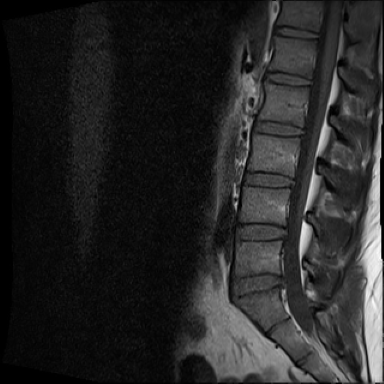Lumbar Disc Bulge (LDB): (222, 265, 292, 306)
Normal IVD: (233, 217, 287, 241), (263, 67, 314, 90), (250, 118, 304, 139), (241, 169, 294, 189), (274, 23, 321, 41)
Spinal Stenosis (SS): (270, 268, 290, 293)
